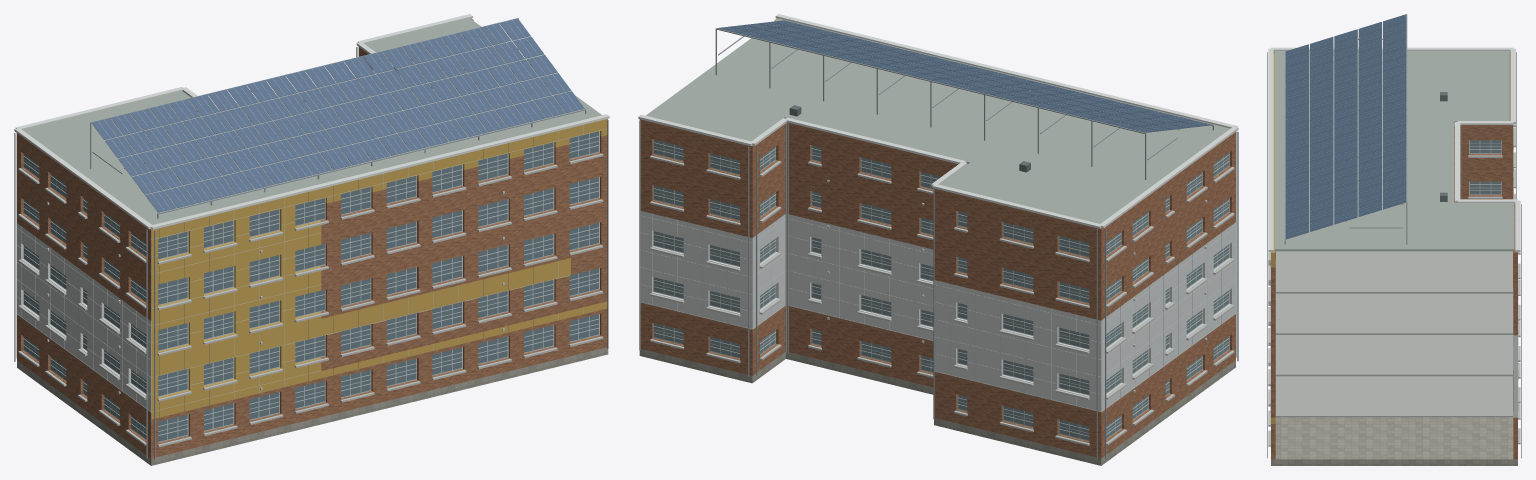
3 views of the same model, side by side, from view 1: azimuth 30°, elevation 25°; view 2: azimuth 150°, elevation 25°; view 3: azimuth 270°, elevation 25° (orthographic). The views are drawn at different scales.
Parts seen in each view (by area): view 1: main-west__brick, main-west__pv, main-west__gold, main-west__glass, main-west__frame, main-west__roof, main-west__panel, main-west__cap, main-west__sill, main-west__stone, main-west__sideglass, main-west__joint (+2 smaller); view 2: main-west__brick, main-west__panel, main-west__roof, main-west__sideglass, main-west__pv, main-west__frame, main-west__steel, main-west__sill, main-west__cap, main-west__joint, main-west__stone; view 3: main-west__slab, main-west__roof, main-west__pv, main-west__stone, main-west__brick, main-west__cap, main-west__steel, main-west__sill, main-west__sideglass, main-west__gold, main-west__panel, main-west__frame.
Boxes of the visible parts, x1,y1,x2,y2 form: main-west__brick: (17, 18, 607, 458); main-west__pv: (91, 18, 584, 212); main-west__gold: (151, 119, 607, 419); main-west__glass: (158, 131, 598, 441); main-west__frame: (23, 131, 599, 442); main-west__roof: (23, 18, 601, 224); main-west__panel: (17, 223, 151, 412); main-west__cap: (14, 14, 609, 229); main-west__sill: (18, 153, 603, 447); main-west__stone: (17, 347, 608, 465); main-west__sideglass: (24, 154, 146, 438); main-west__joint: (17, 125, 606, 417); main-west__brick: (639, 119, 1235, 458); main-west__panel: (640, 211, 1235, 412); main-west__roof: (646, 18, 1230, 223); main-west__sideglass: (654, 139, 1228, 440); main-west__pv: (717, 20, 1212, 132); main-west__frame: (653, 139, 1229, 441); main-west__steel: (639, 28, 1238, 459); main-west__sill: (650, 155, 1234, 445); main-west__cap: (638, 14, 1238, 228); main-west__joint: (641, 179, 1235, 411); main-west__stone: (639, 349, 1235, 465); main-west__slab: (1276, 123, 1512, 417); main-west__roof: (1274, 51, 1514, 251); main-west__pv: (1285, 14, 1406, 239); main-west__stone: (1271, 260, 1517, 465); main-west__brick: (1271, 51, 1517, 459); main-west__cap: (1268, 22, 1520, 251); main-west__steel: (1267, 14, 1521, 458); main-west__sill: (1268, 124, 1520, 446); main-west__sideglass: (1470, 140, 1501, 194); main-west__gold: (1271, 53, 1275, 423); main-west__panel: (1513, 288, 1517, 417); main-west__frame: (1469, 140, 1501, 194).
Bounding box in the file's own units: 40.62 × 24.05 × 21.53.
16 materials, 2 textured.
